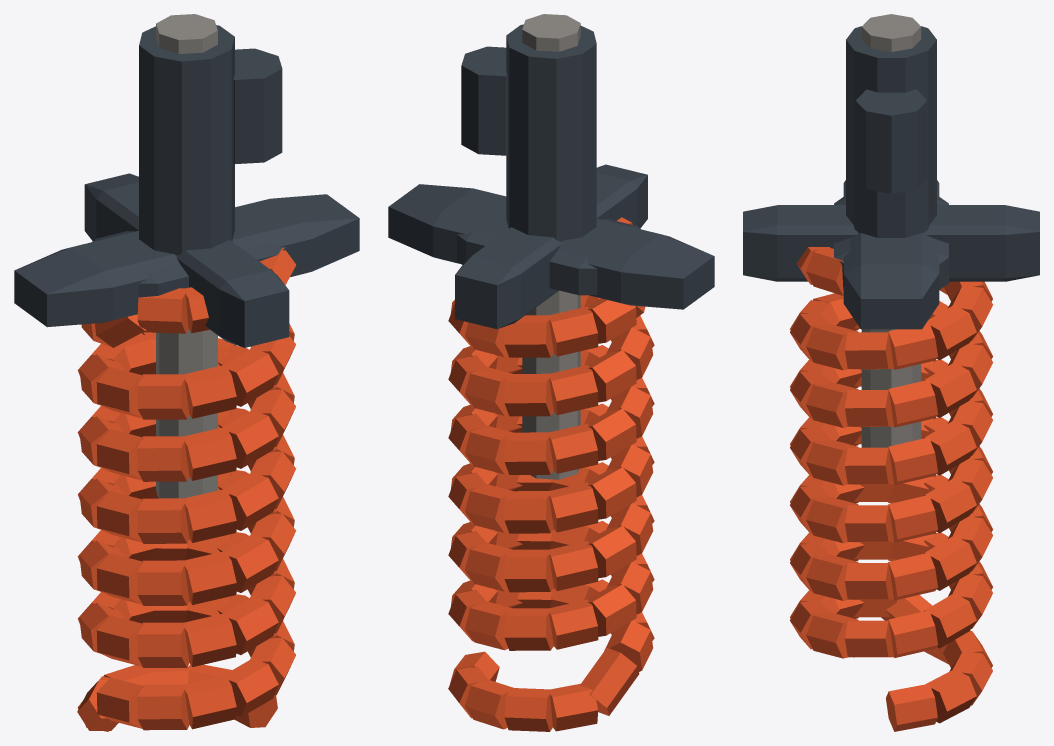
The model's file is strut.glb.
3 views of the same model, side by side, from view 1: azimuth 30°, elevation 25°; view 2: azimuth 150°, elevation 25°; view 3: azimuth 270°, elevation 25° (orthographic). The views are drawn at different scales.
Parts seen in each view (by area): view 1: spring, shock, arm, link, capT; view 2: spring, shock, arm, link, capT; view 3: spring, shock, link, arm, capT.
Part boxes in pixels (left/top/right/bottom): spring: left=77, top=247, right=296, bottom=731; shock: left=139, top=14, right=282, bottom=498; arm: left=14, top=194, right=359, bottom=327; link: left=84, top=173, right=289, bottom=347; capT: left=92, top=231, right=287, bottom=297; spring: left=448, top=217, right=654, bottom=731; shock: left=461, top=14, right=596, bottom=479; arm: left=388, top=184, right=714, bottom=309; link: left=455, top=164, right=647, bottom=329; capT: left=457, top=219, right=640, bottom=295; spring: left=790, top=247, right=992, bottom=731; shock: left=846, top=14, right=936, bottom=447; link: left=743, top=205, right=1039, bottom=281; arm: left=843, top=180, right=939, bottom=329; capT: left=834, top=197, right=948, bottom=289.
Bounding box in the file's own units: 0.7 × 1.54 × 0.62.
